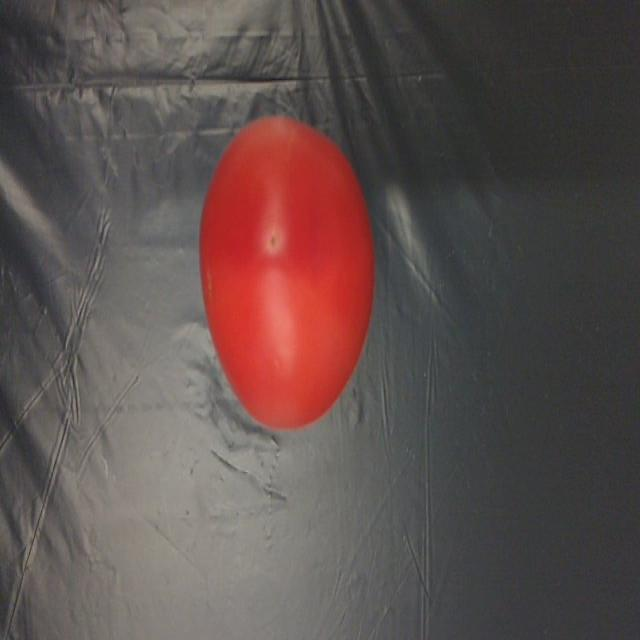kirmizi: (177, 107, 372, 434)
